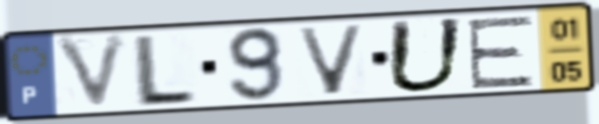9: (223, 24, 288, 105)
E: (463, 13, 537, 91)
L: (130, 31, 200, 110)
U: (383, 16, 468, 96)
V: (50, 30, 134, 115), (292, 22, 369, 98)
